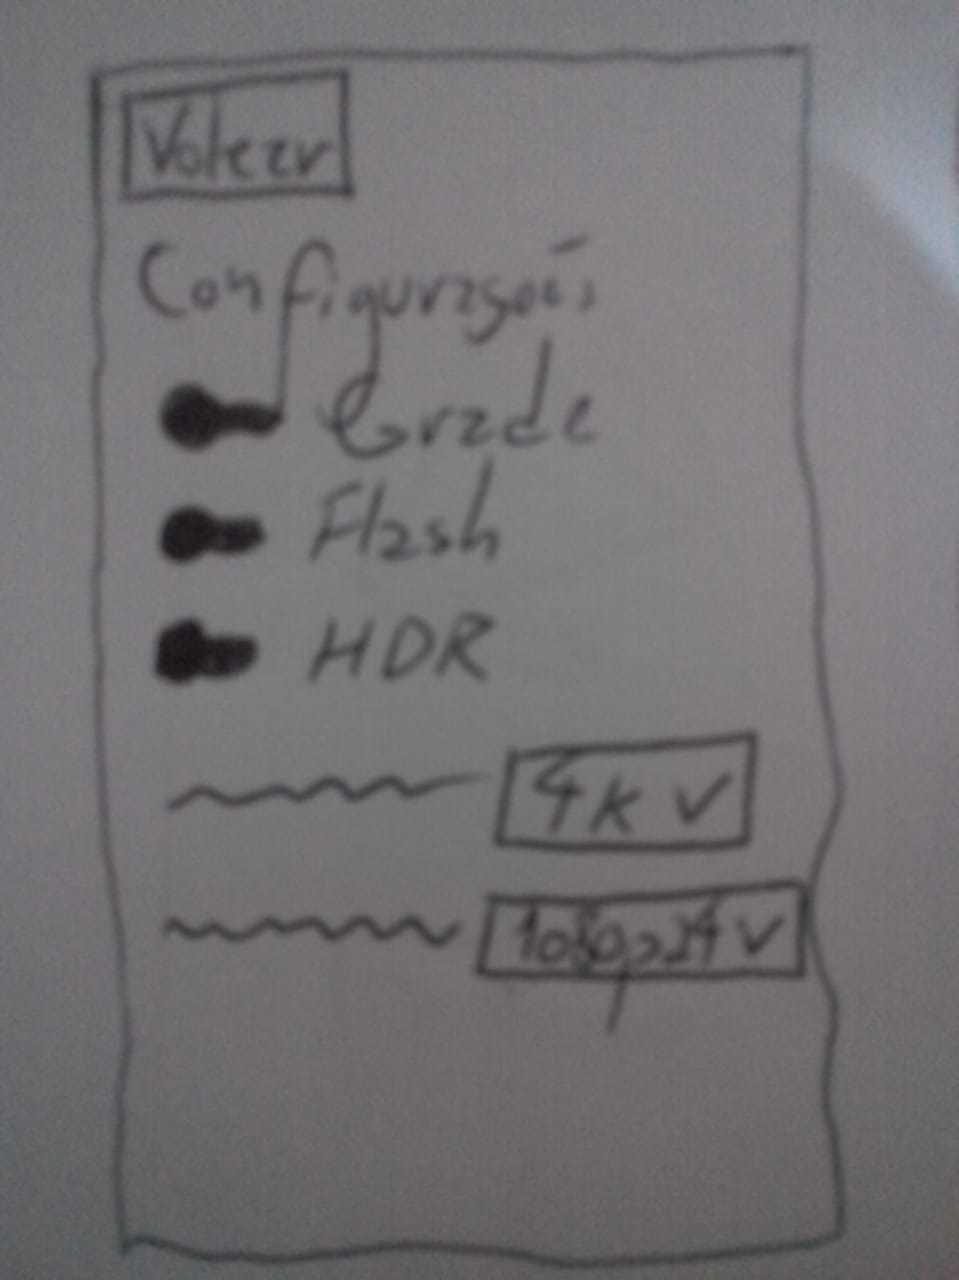Button: (120, 68, 354, 201)
Label: (137, 237, 601, 344), (326, 338, 601, 458), (307, 450, 509, 566), (303, 612, 499, 684), (164, 770, 490, 813), (165, 908, 459, 948)
ListPicker: (475, 879, 808, 981), (496, 732, 757, 851)
Screen: (92, 45, 848, 1264)
Switch: (155, 373, 285, 457), (152, 618, 261, 693), (159, 505, 268, 564)
